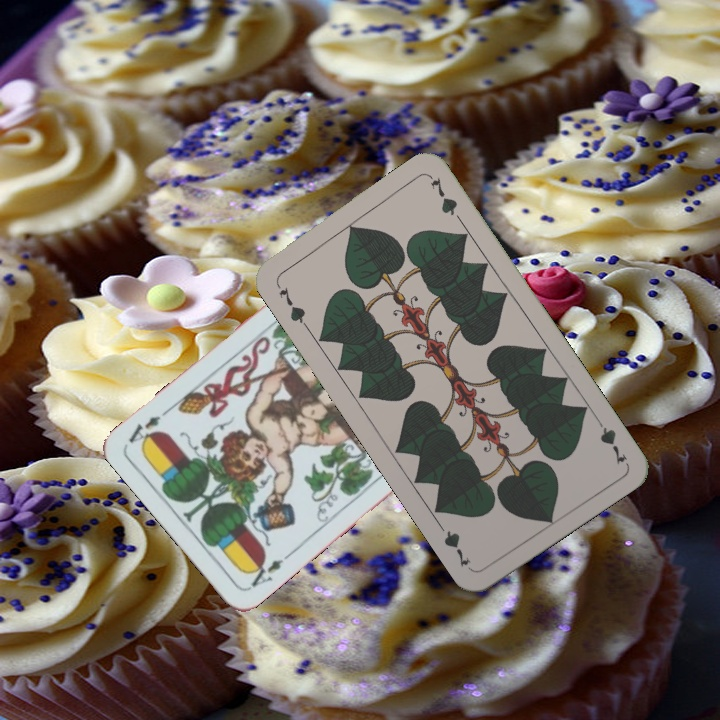EA: (243, 554, 286, 592)
G7: (591, 412, 630, 467), (272, 278, 311, 331)
